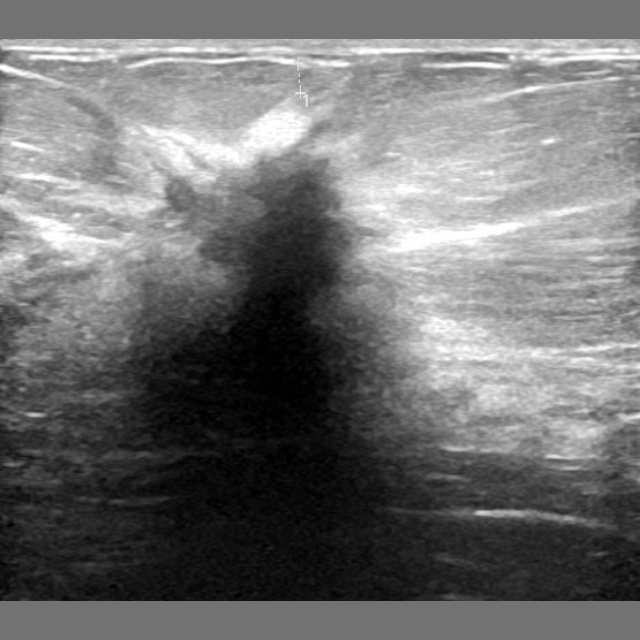cancer: (125, 155, 440, 544)
